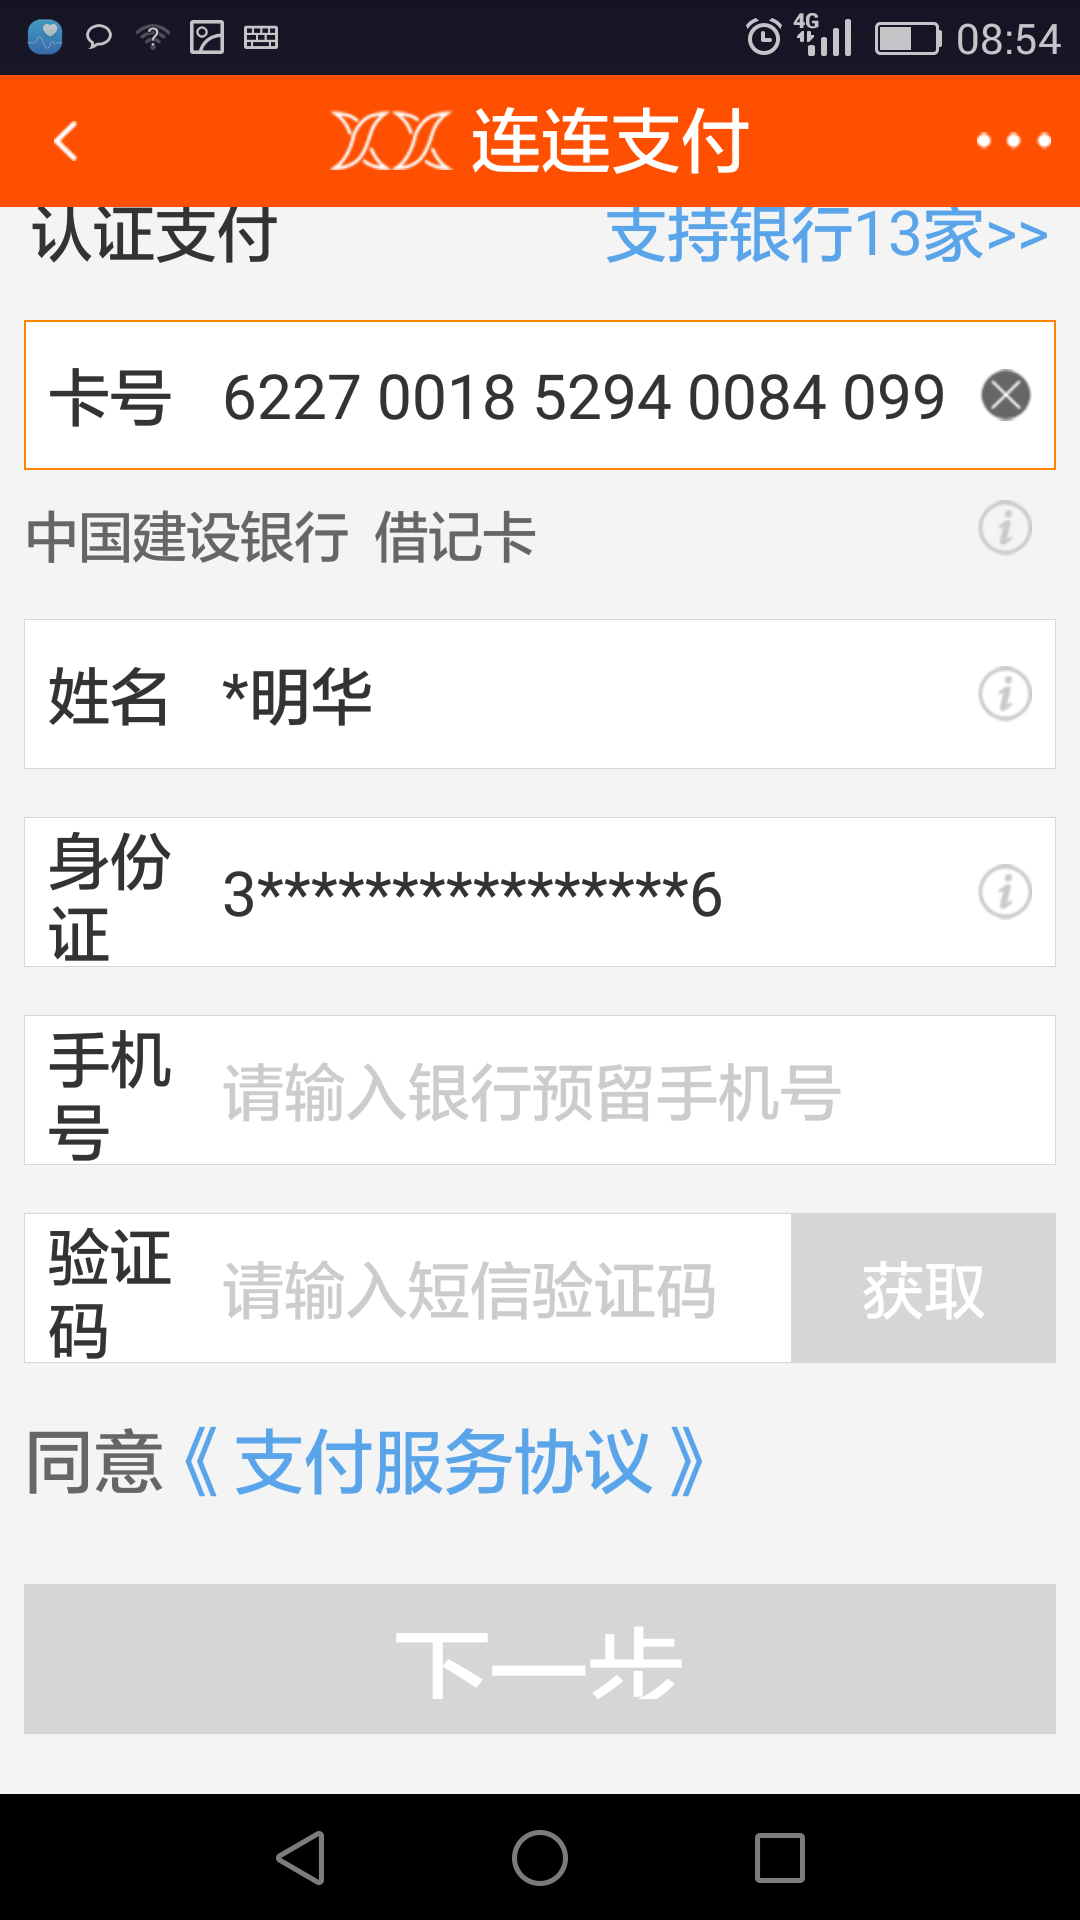button: (22, 1571, 1080, 1741)
imgbutton: (947, 94, 1069, 185), (18, 90, 108, 179), (955, 651, 1040, 735)
textview: (41, 608, 1069, 1382), (18, 306, 1075, 473), (12, 484, 1047, 592), (15, 1423, 742, 1513)
